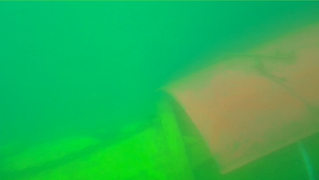leak: (158, 24, 319, 175)
pipe: (1, 98, 319, 180)
